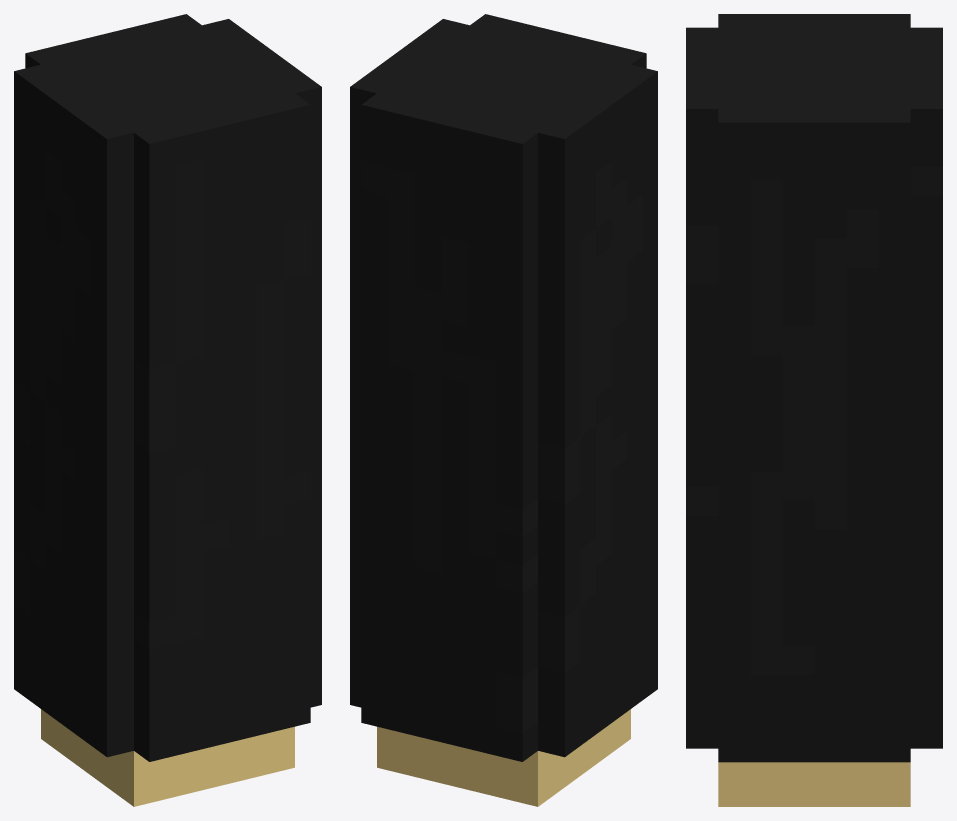
File: Bandit-3-Arm_L.obj
The picture shows the model from 3 angles, left to right: view 1: azimuth 30°, elevation 25°; view 2: azimuth 150°, elevation 25°; view 3: azimuth 270°, elevation 25°; orthographic projection. The views are drawn at different scales.
Parts seen in each view (by area): view 1: Arm_L; view 2: Arm_L; view 3: Arm_L.
Part boxes in pixels (<box>): Arm_L: <box>14,14,321,806</box>; Arm_L: <box>350,14,657,806</box>; Arm_L: <box>686,14,942,806</box>.
Bounding box in the file's own units: 0.8 × 2.4 × 0.8.
1 material, 1 textured.
